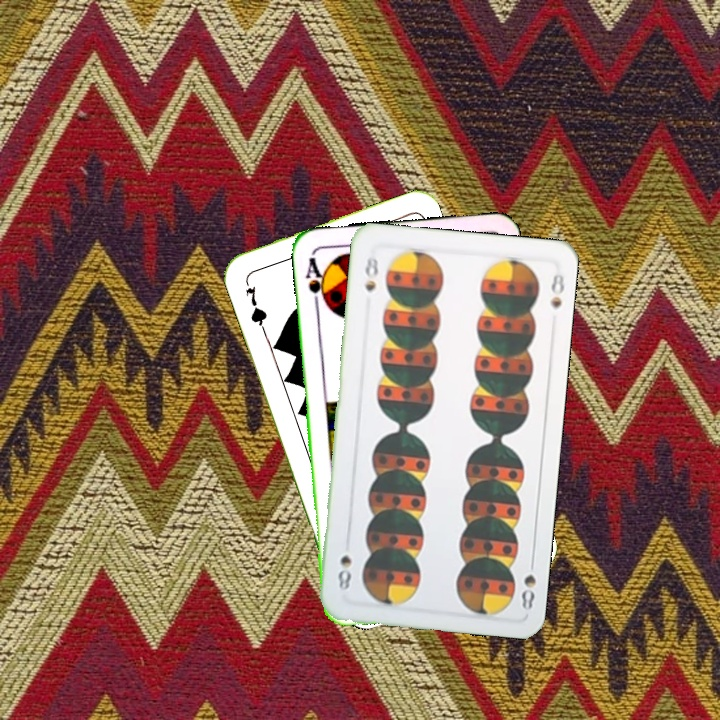G7: (240, 275, 270, 332)
S8: (517, 554, 538, 613), (360, 252, 381, 294)
SA: (301, 253, 330, 311)
